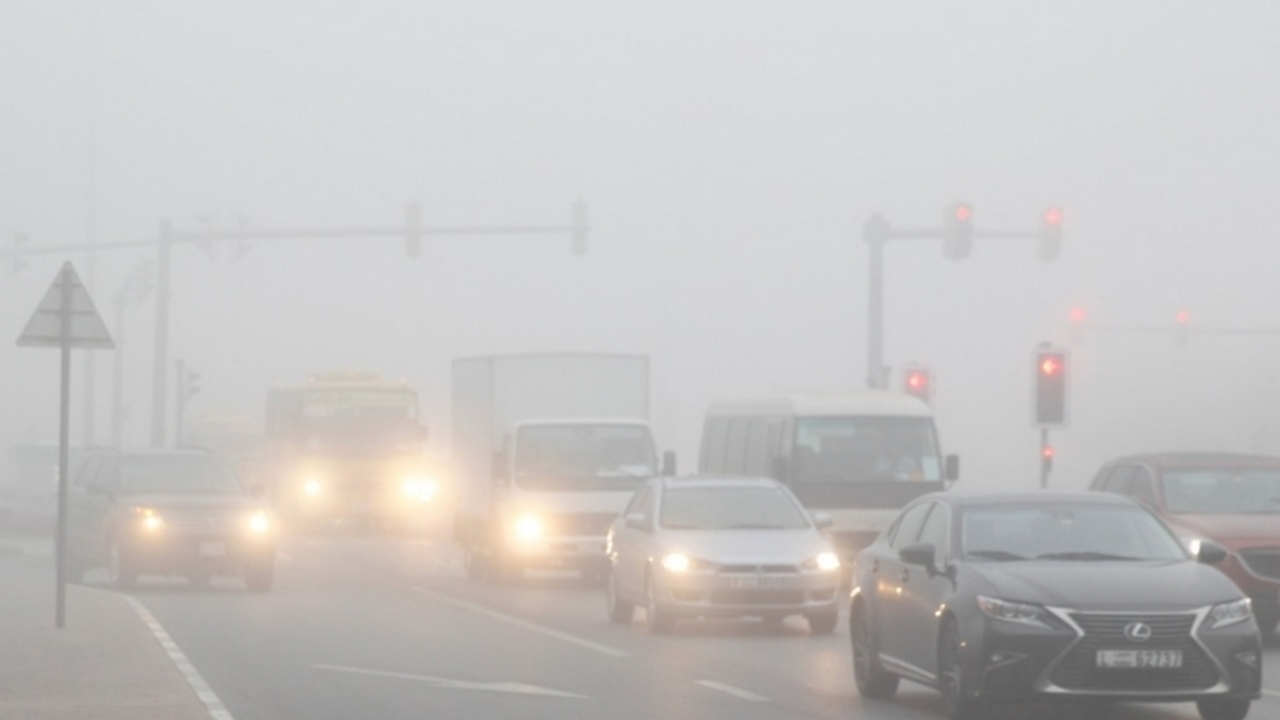bus: (702, 384, 953, 564), (257, 374, 430, 541)
car: (844, 480, 1262, 717), (601, 469, 847, 639), (69, 445, 267, 590), (1080, 452, 1278, 596)
truck: (451, 355, 658, 576)
